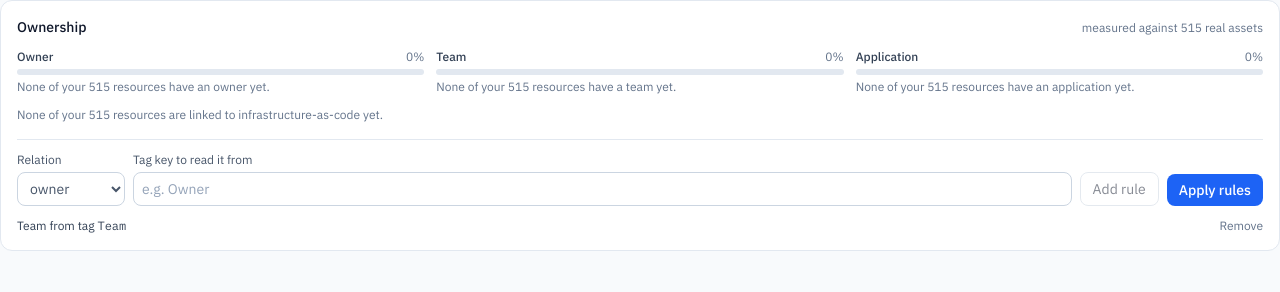
OwnershipPanel › says assignments are retained when a rule is removed
Click the button "Remove": (1241, 226) left=1219, top=218, right=1263, bottom=234
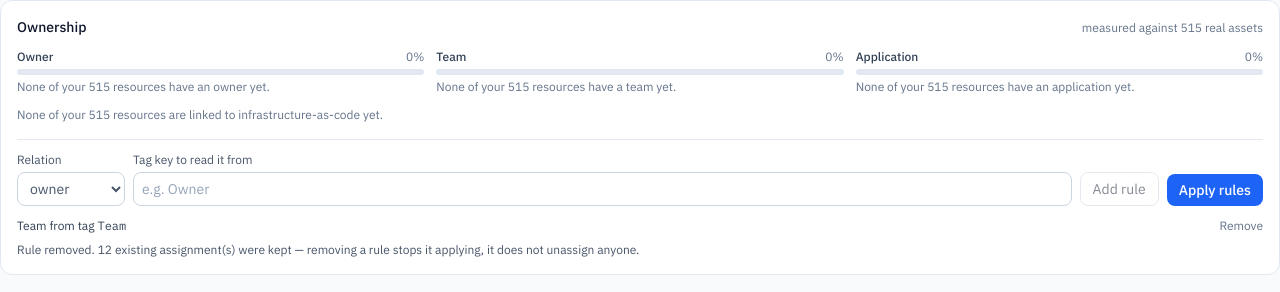
Check: the text "does not unassign anyone" is shown, box left=17, top=242, right=639, bottom=257
